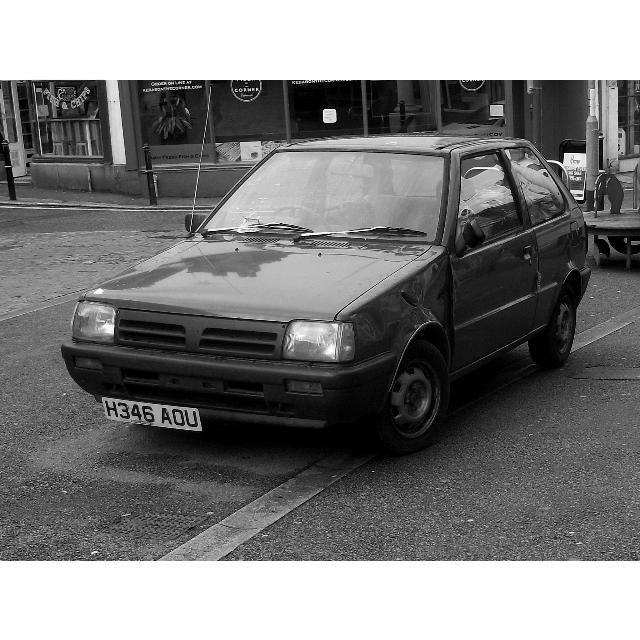fender-dent: (346, 266, 462, 373)
